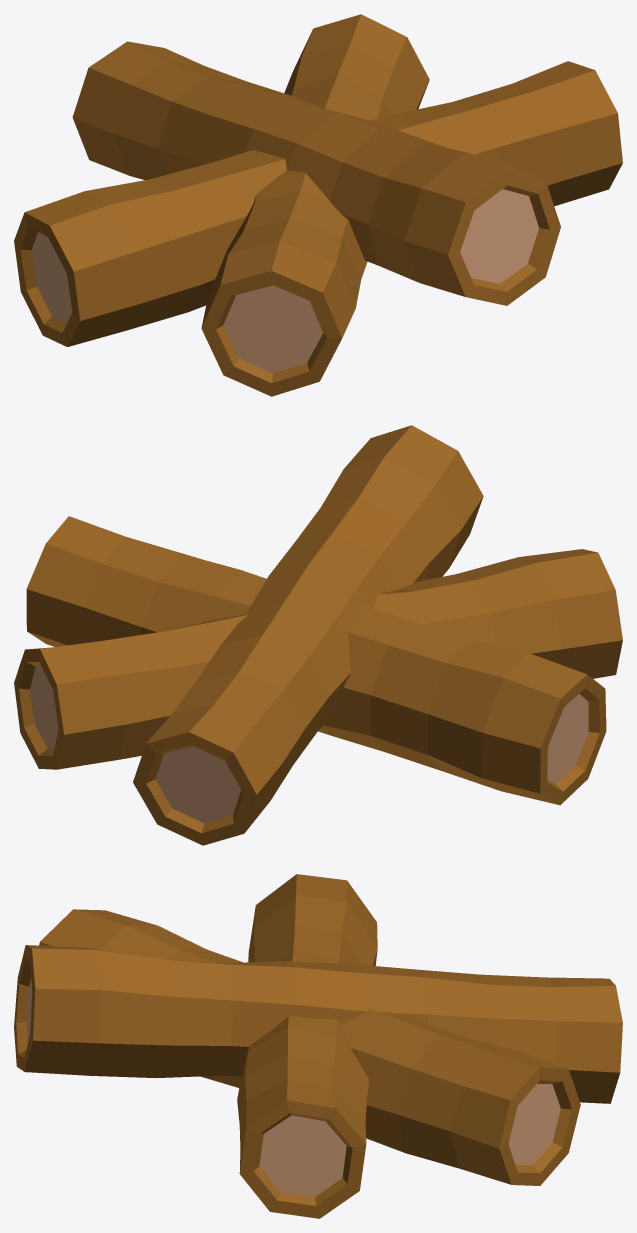
Rendered from firecamp.fbx.
The picture shows the model from 3 angles, top to bottom: view 1: azimuth 30°, elevation 25°; view 2: azimuth 150°, elevation 25°; view 3: azimuth 270°, elevation 25°; orthographic projection. The views are drawn at different scales.
Visible parts, largest first — view 1: Cylinder.001, Cylinder.003, Cylinder.002, Cylinder.006, Cylinder.005, Cylinder.004; view 2: Cylinder.003, Cylinder.001, Cylinder.002, Cylinder.005, Cylinder.004, Cylinder.006; view 3: Cylinder.001, Cylinder.002, Cylinder.003, Cylinder.004, Cylinder.006.
Part boxes in pixels (x1,y1,x2,y2): Cylinder.001: (72,41,560,305); Cylinder.003: (14,61,622,346); Cylinder.002: (201,14,429,396); Cylinder.006: (223,285,322,373); Cylinder.005: (460,189,538,283); Cylinder.004: (31,232,72,323); Cylinder.003: (26,516,606,805); Cylinder.001: (133,425,483,845); Cylinder.002: (14,549,622,769); Cylinder.005: (155,746,241,823); Cylinder.004: (547,694,588,783); Cylinder.006: (30,666,58,748); Cylinder.001: (14,945,622,1103); Cylinder.002: (39,909,580,1185); Cylinder.003: (237,874,377,1218); Cylinder.004: (259,1115,346,1197); Cylinder.006: (508,1083,560,1165).
Bounding box in the file's own units: 580 × 206 × 585.
